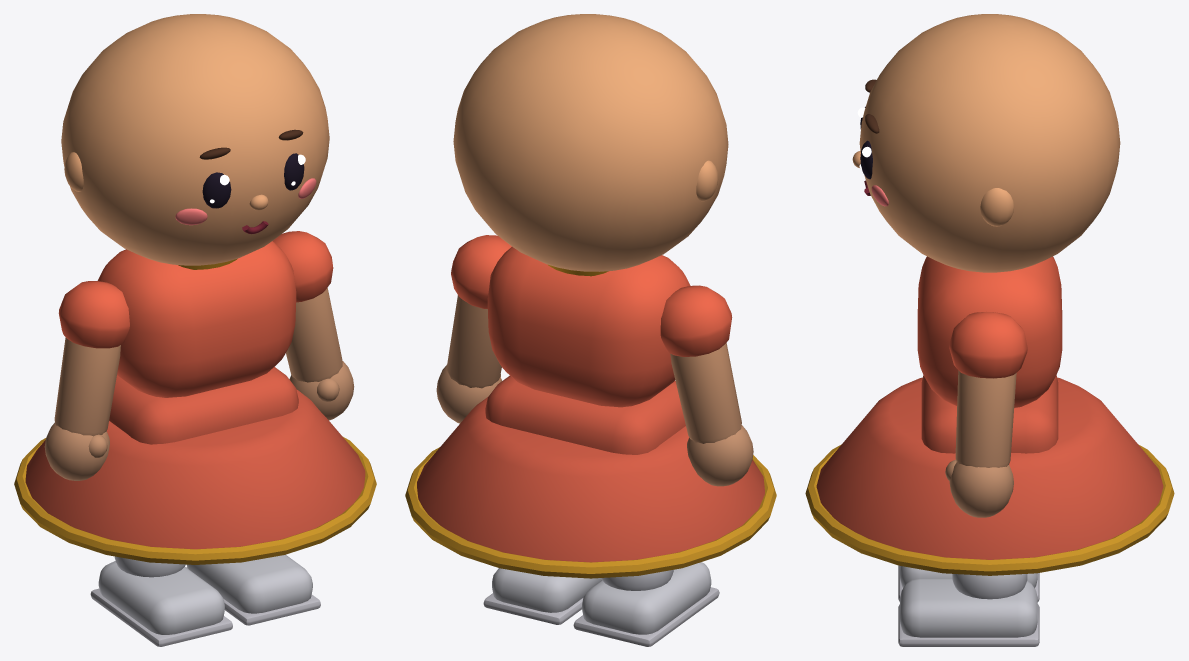
Rendered from body_elder_dress.glb.
3 views of the same model, side by side, from view 1: azimuth 30°, elevation 25°; view 2: azimuth 150°, elevation 25°; view 3: azimuth 270°, elevation 25° (orthographic). The views are drawn at different scales.
Visible parts, largest first — view 1: Head, Hips, Torso, ArmR, LegR, ArmL, LegL; view 2: Head, Hips, Torso, ArmR, ArmL, LegR, LegL; view 3: Head, Hips, Torso, ArmL, LegL, LegR.
Part boxes in pixels (left/top/right/bottom): Head: left=61, top=14, right=329, bottom=265; Hips: left=14, top=367, right=376, bottom=564; Torso: left=97, top=241, right=296, bottom=397; ArmR: left=44, top=281, right=129, bottom=480; LegR: left=90, top=556, right=232, bottom=646; ArmL: left=273, top=231, right=354, bottom=420; LegL: left=186, top=554, right=320, bottom=625; Head: left=453, top=14, right=728, bottom=271; Hips: left=405, top=375, right=776, bottom=578; Torso: left=487, top=246, right=690, bottom=407; ArmR: left=660, top=285, right=753, bottom=486; ArmL: left=436, top=235, right=511, bottom=423; LegR: left=573, top=562, right=719, bottom=646; LegL: left=483, top=568, right=601, bottom=624; Head: left=852, top=14, right=1120, bottom=272; Hips: left=805, top=375, right=1174, bottom=575; Torso: left=917, top=256, right=1062, bottom=407; ArmL: left=945, top=312, right=1027, bottom=517; LegL: left=898, top=574, right=1039, bottom=646; LegR: left=898, top=565, right=1039, bottom=601.
Size of the model in its own units: 0.772 by 1.34 by 0.772.
